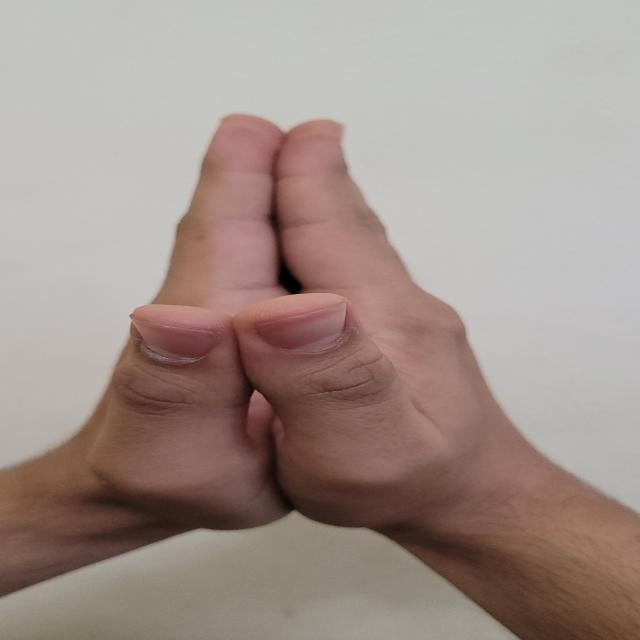Thank You: (19, 89, 594, 594)
